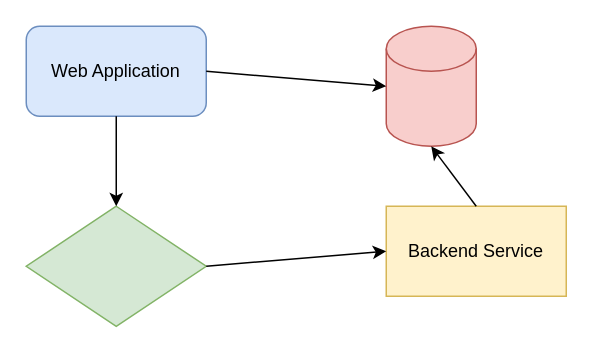
This 593x353 diagram has some shape labels left out. Each missing label, with the centre of its shape:
"API Gateway" goes at point (115, 265).
"Database" goes at point (430, 85).
